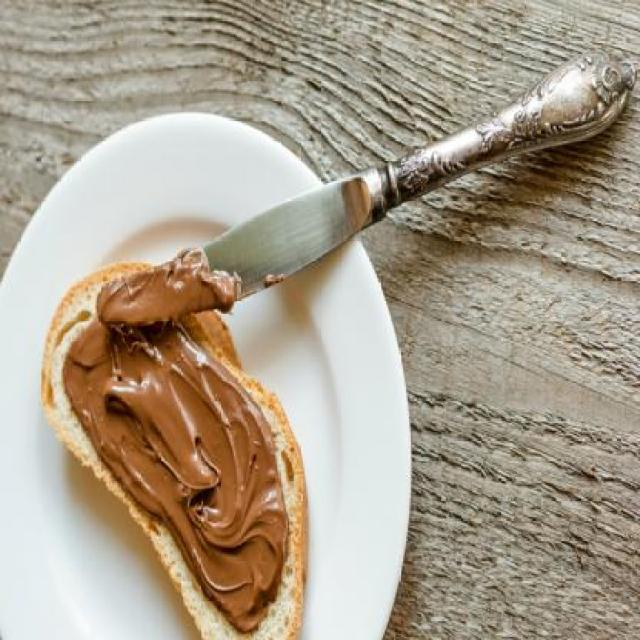Spread: (60, 294, 294, 630)
